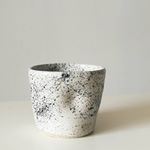cups: (22, 61, 110, 140)
